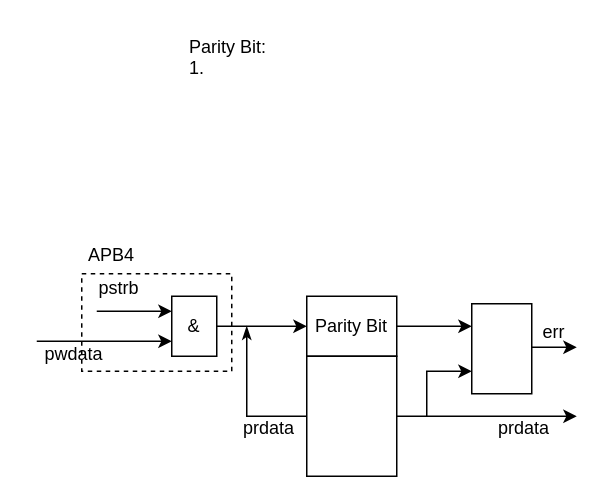
Some shapes in this 615 by 503 pixel diagram are drawn without their labels. The shapes that lost their labels are listed below. From the top down, each one's centre as x and y in pixels, then its label:
At point (501, 348): "check".
At point (351, 415): "Reg Bit".
